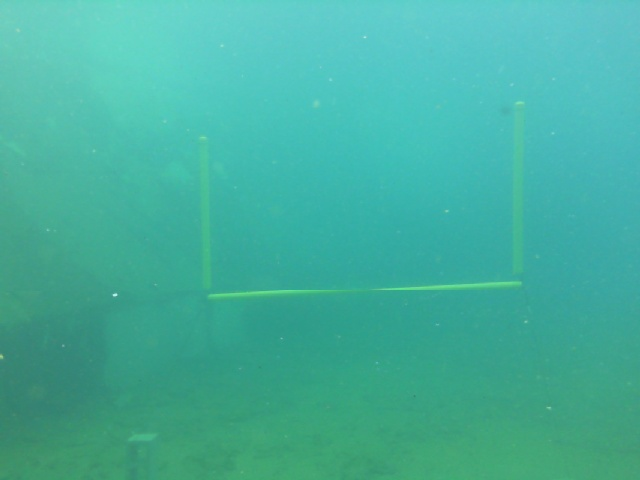channel: (195, 98, 529, 305)
